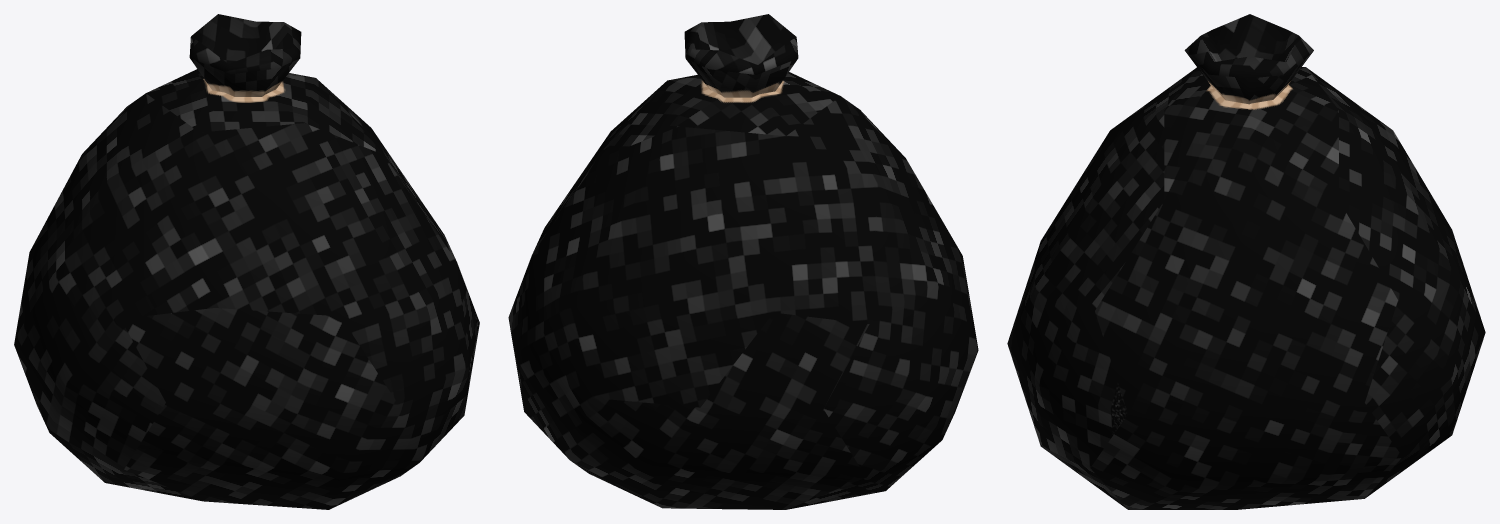
Rendered from trash.gltf.
3 renders of one model, left to right at view 1: azimuth 30°, elevation 25°; view 2: azimuth 150°, elevation 25°; view 3: azimuth 270°, elevation 25°, orthographic.
Parts seen in each view (by area): view 1: Icosphere.001; view 2: Icosphere.001; view 3: Icosphere.001.
Boxes of the visible parts, x1,y1,x2,y2 form: Icosphere.001: (14,14,479,509); Icosphere.001: (508,14,978,509); Icosphere.001: (1007,14,1485,509).
Bounding box in the file's own units: 0.7083 × 0.7994 × 0.769.
Materials: 1 (1 with a texture image).
